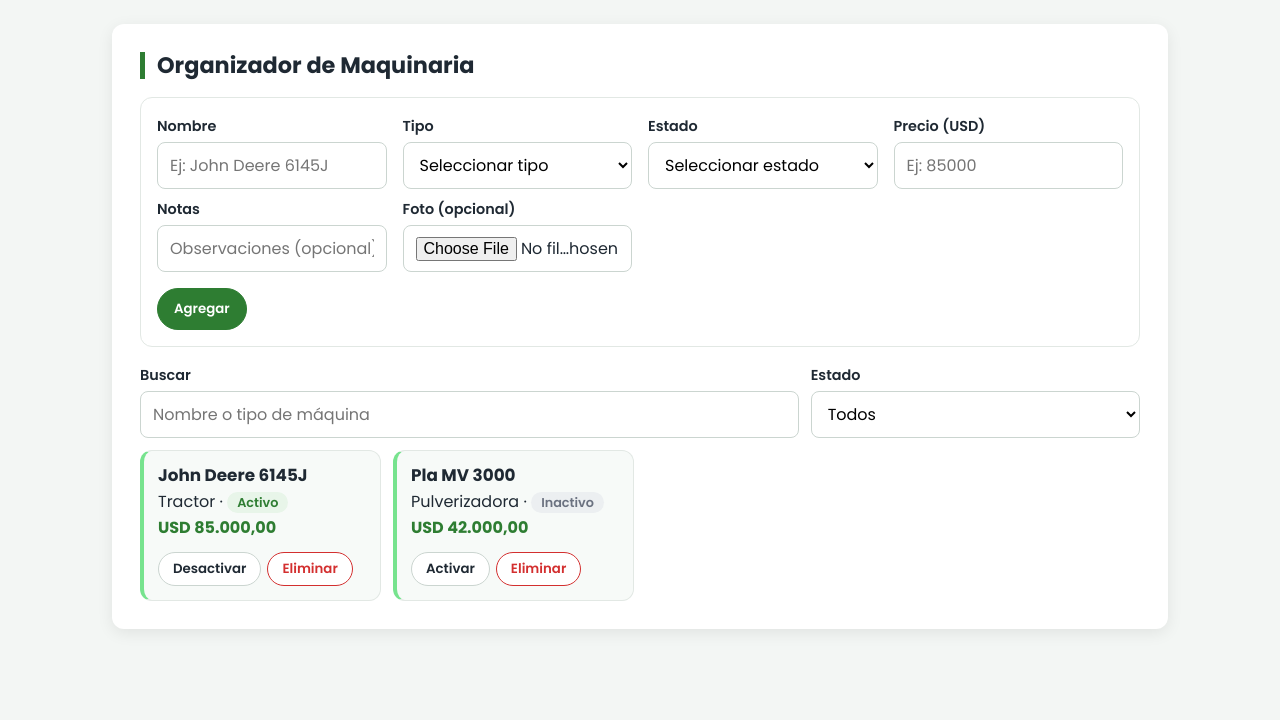
Test: Maquinaria › el buscador y el filtro por estado filtran la lista en tiempo real
expect the number of list items is 2: met, box [140,450,381,601]; [393,450,634,601]
Type "pulv" into the search field labelled "Buscar" at (469, 415), box [140,392,799,438]
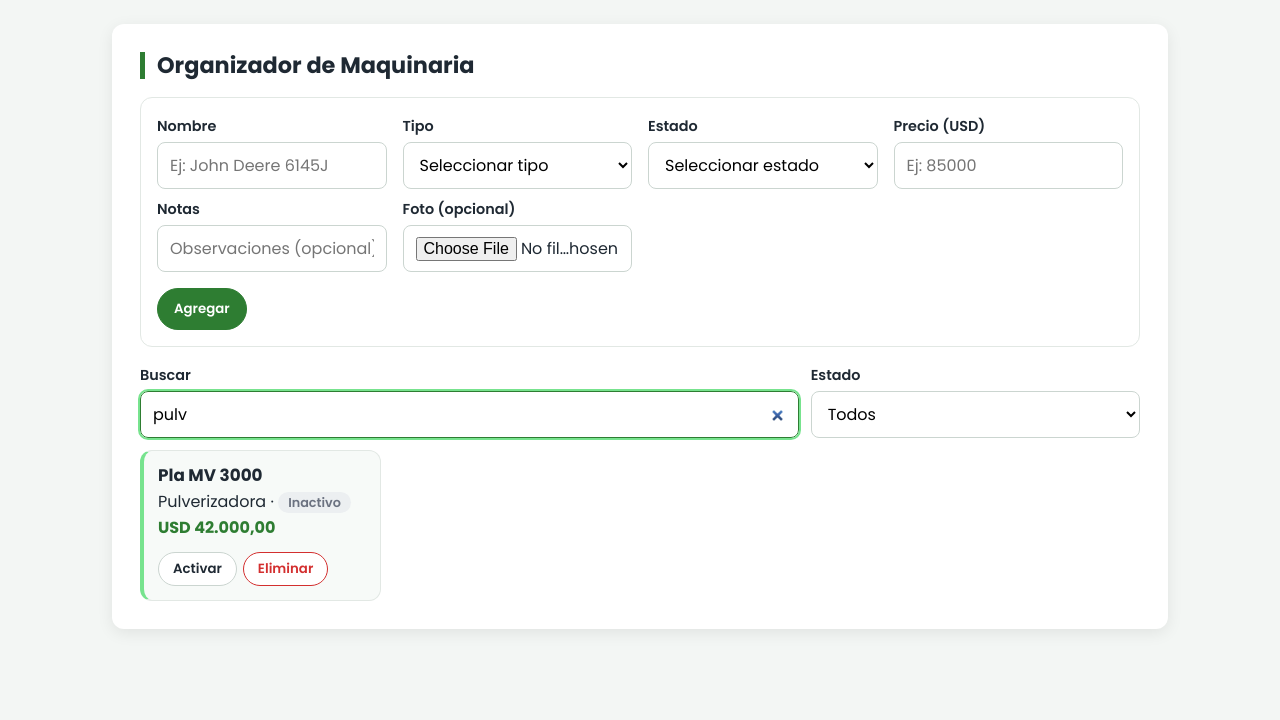
expect the heading "Pla MV 3000" is shown: met, box [158,464,263,488]
expect the number of list items is 1: met, box [140,450,381,601]
Select "Activo" in the 2nd dropdown labelled "Estado" at (975, 415), box [811,392,1140,438]
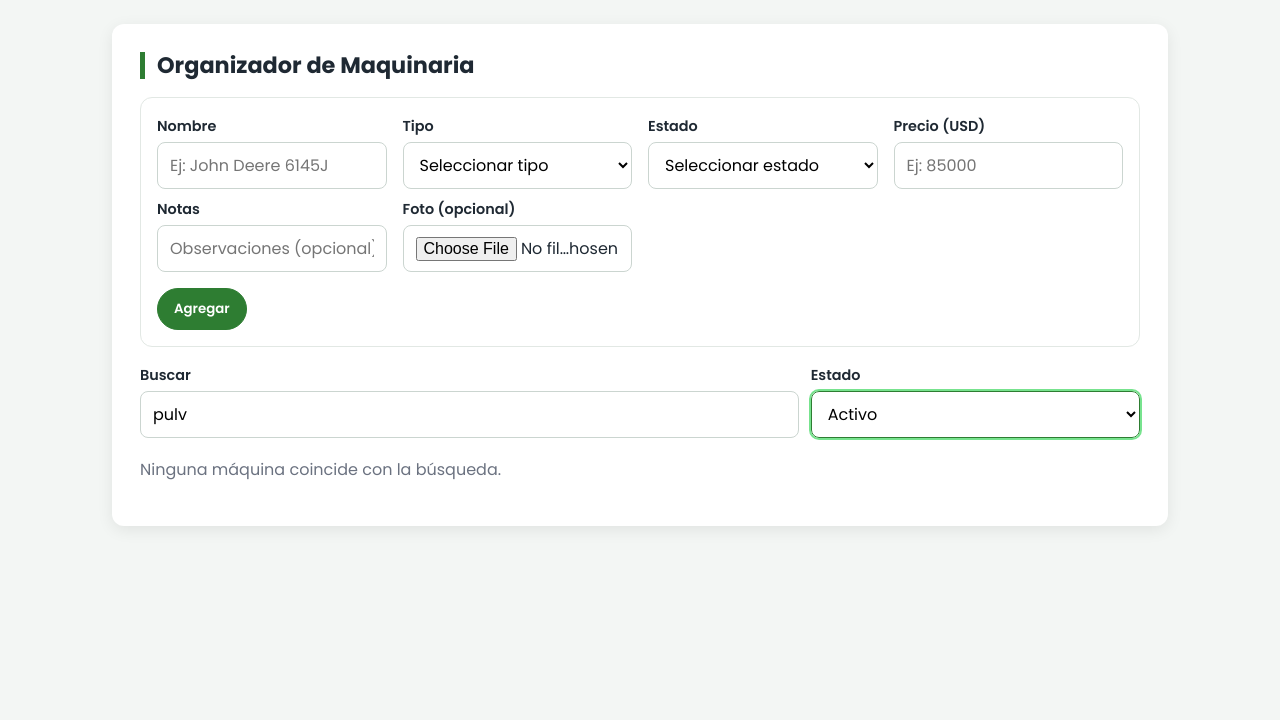
expect no list items are shown: met
expect the text "Ninguna máquina coincide con la búsqueda." is shown: met, box [140,458,501,482]
